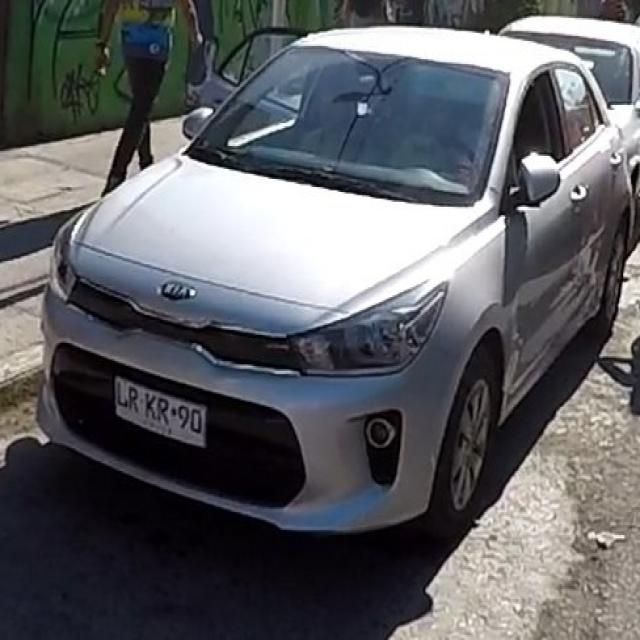patente: (112, 372, 208, 450)
